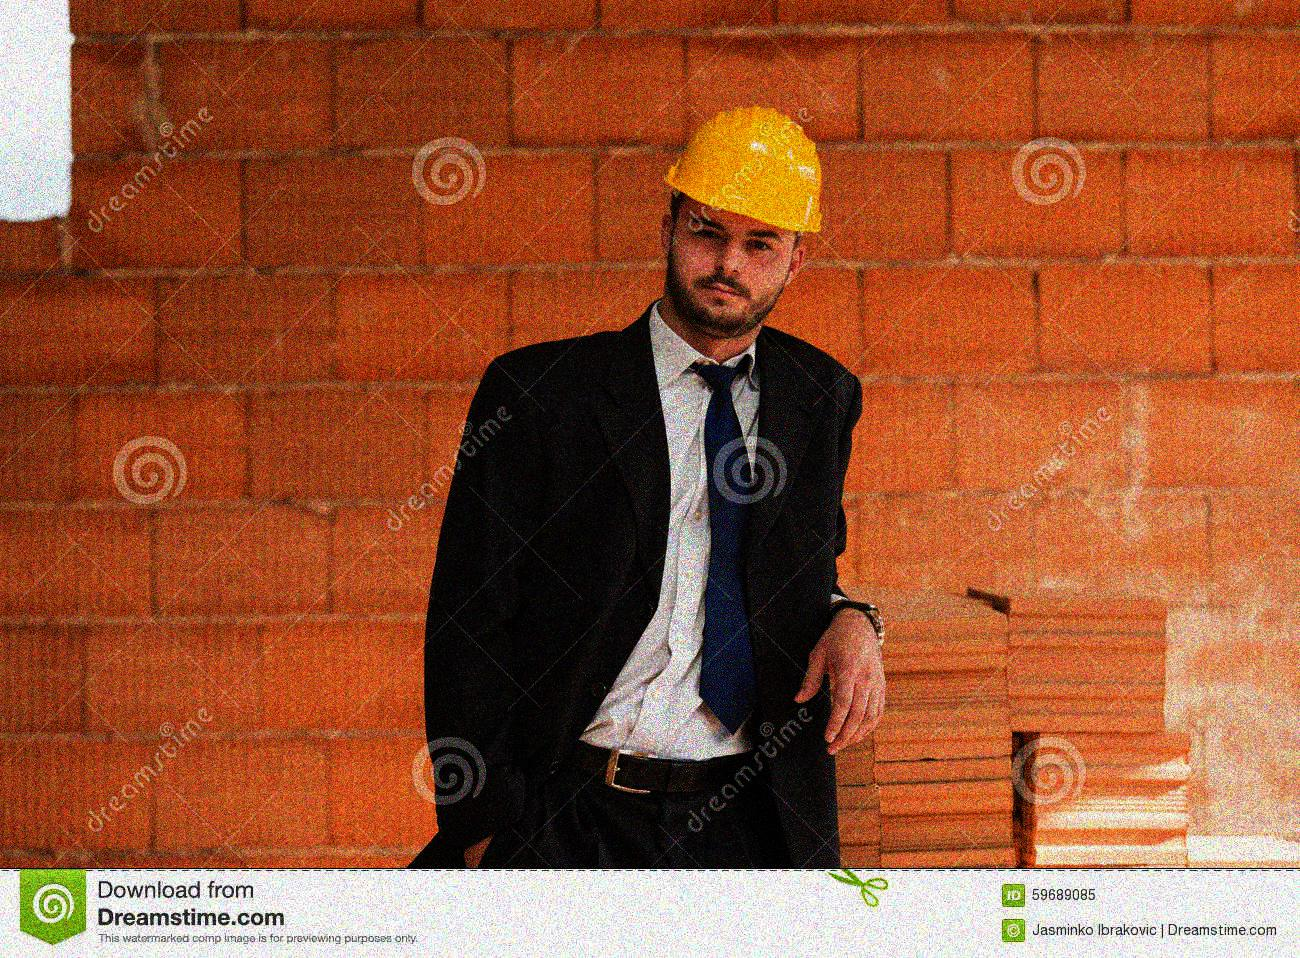helmet: (657, 105, 825, 336)
